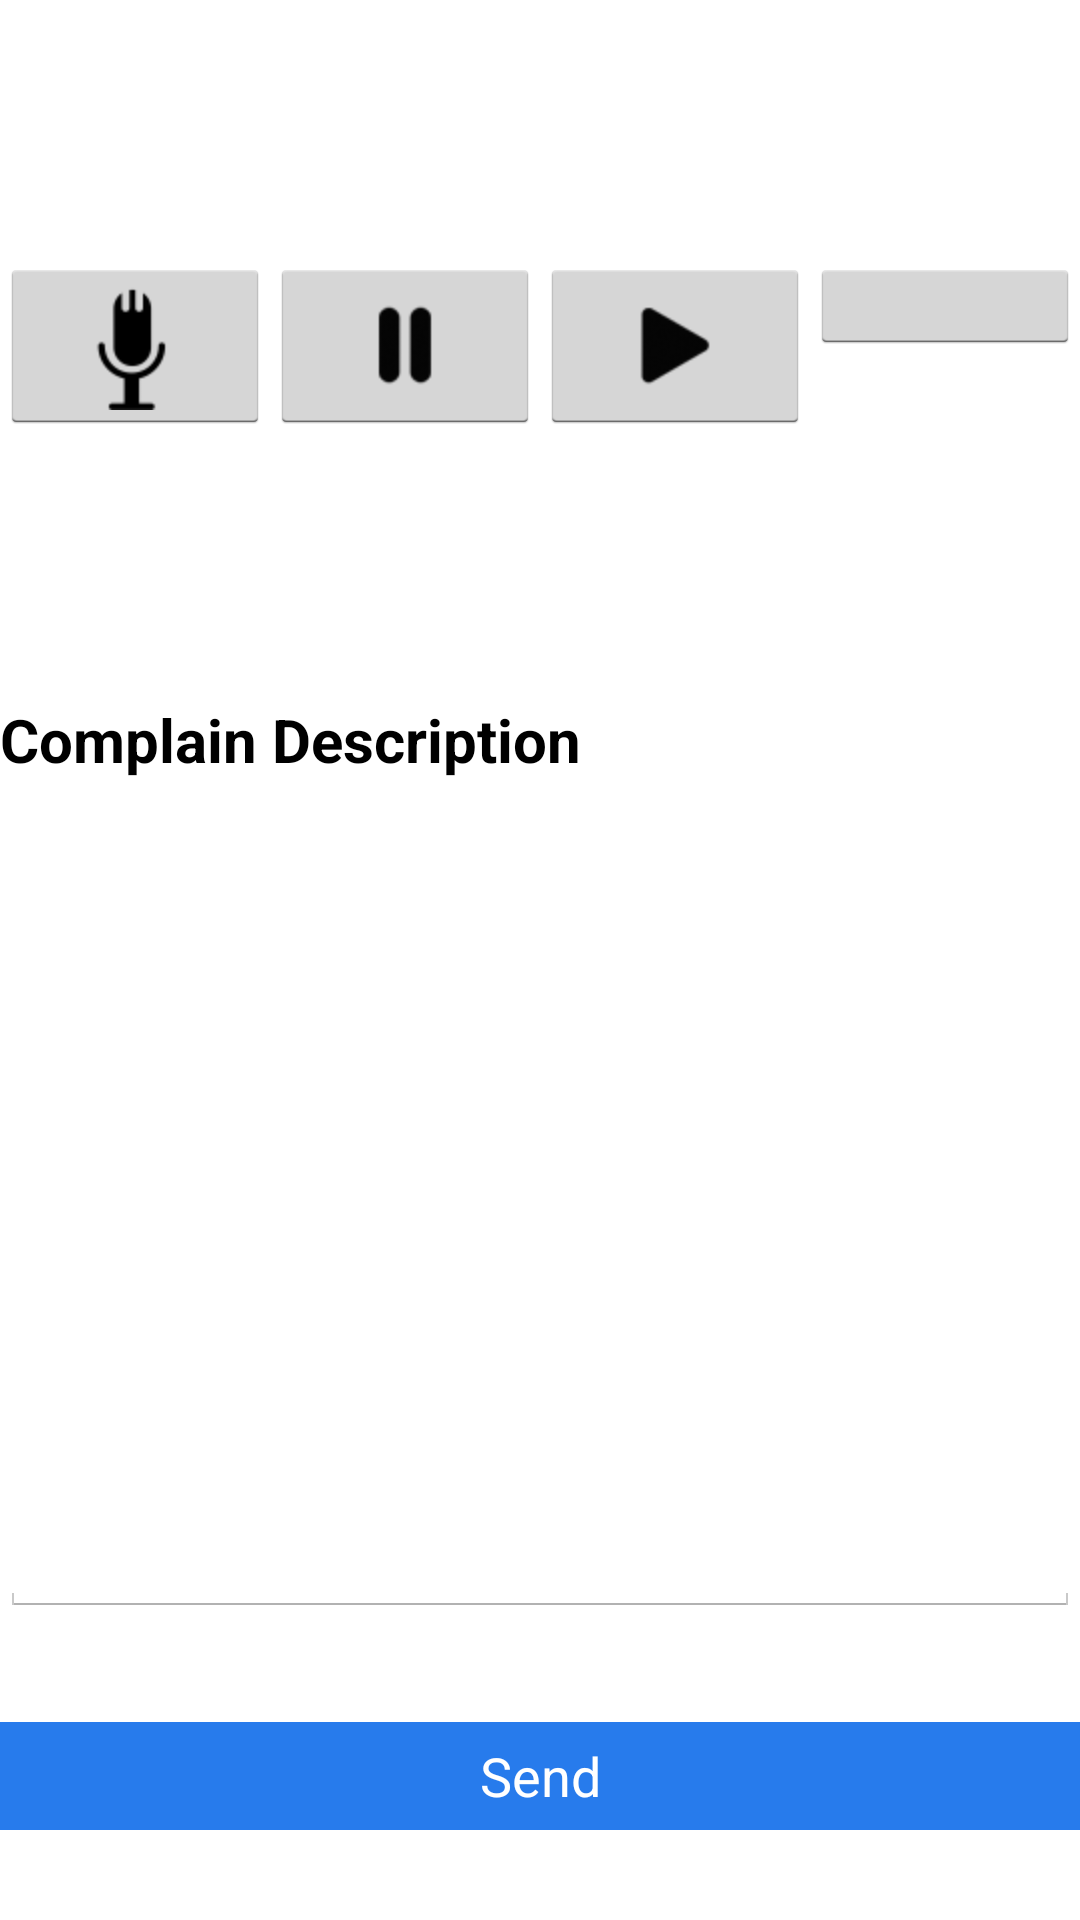

Where icons sit on this 1080 × 1920 app screen, as (x1, y1, x2, y2):
Play: (552, 271, 798, 423)
Record: (12, 271, 258, 423)
